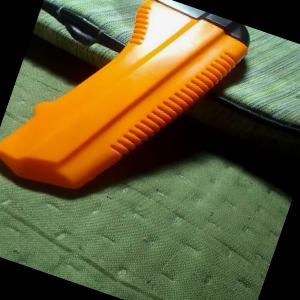estilete: (0, 0, 256, 233)
